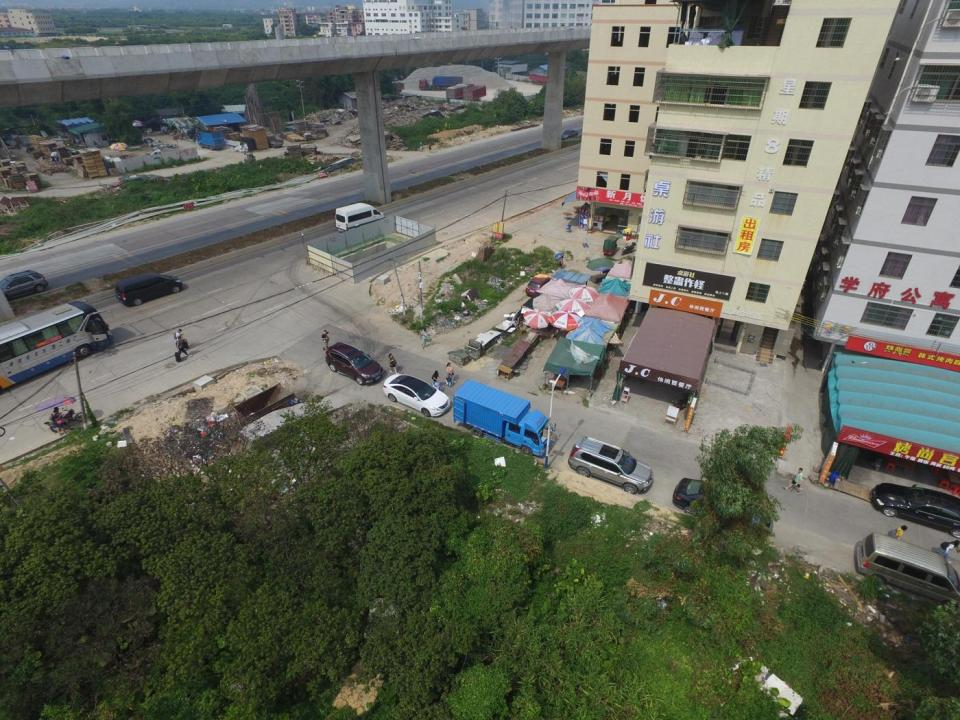bus: (0, 301, 117, 391)
car: (869, 480, 960, 538), (568, 435, 653, 494), (383, 373, 452, 418), (324, 342, 385, 386), (0, 269, 49, 299), (525, 274, 553, 296), (560, 130, 580, 138)
truck: (452, 379, 557, 458), (444, 82, 476, 102), (196, 131, 228, 150), (417, 76, 463, 89), (367, 82, 406, 96), (462, 85, 490, 103)
van: (854, 531, 960, 613), (114, 272, 184, 307), (334, 202, 387, 232), (398, 74, 404, 80)
